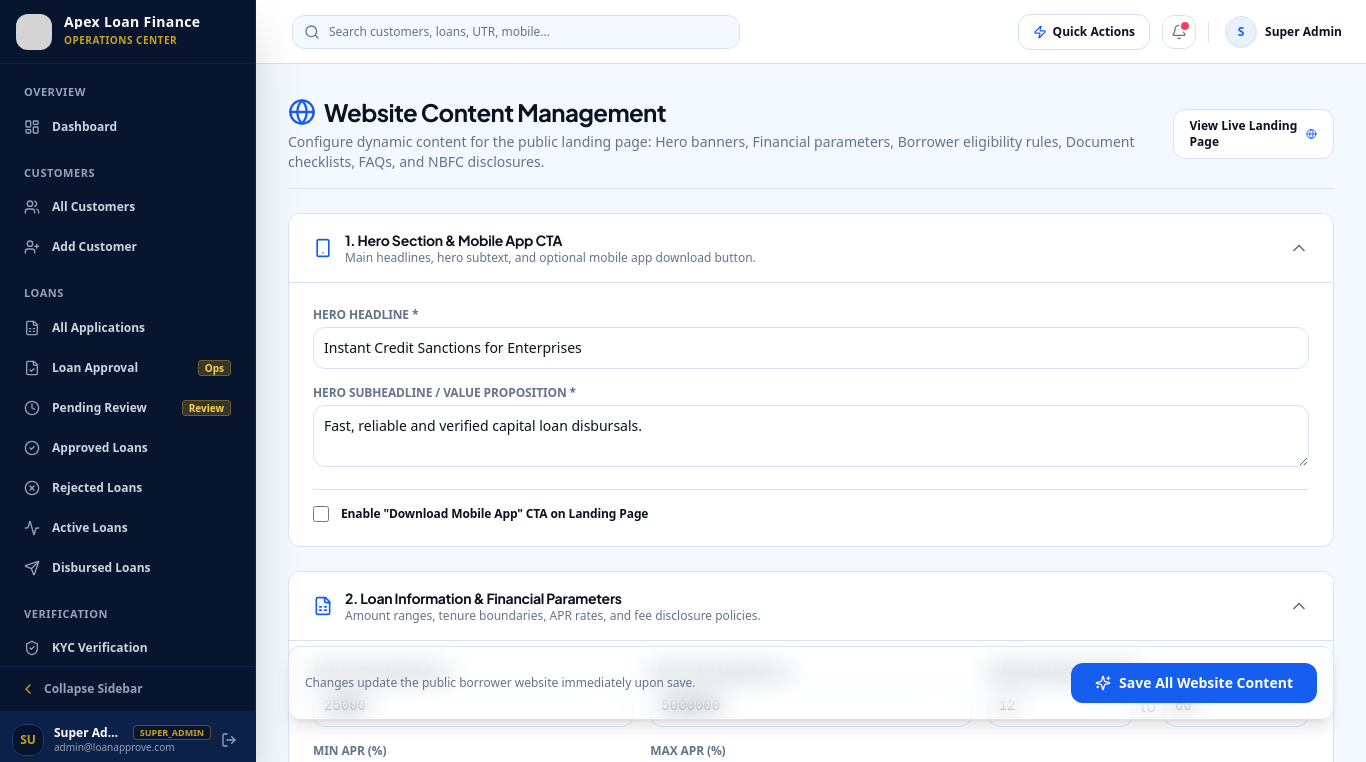
Test: Website Settings, Approval Letter & Branding E2E Integration Suite › TEST 3: Dedicated Website Content Page manages Hero, Financial limits, and FAQs with live save
Expected: the heading "Website Content Management" is shown, [288, 97, 666, 127]
Expected: the number field showing "25000" below "Min Loan Amount (₹)" is shown, [313, 685, 634, 727]
# Edit hero headline
Replace the text in the field showing "Instant Credit Sanctions for Enterprises" with "Updated Fintech Sanction Portal" at x=811, y=348, box [313, 327, 1309, 369]
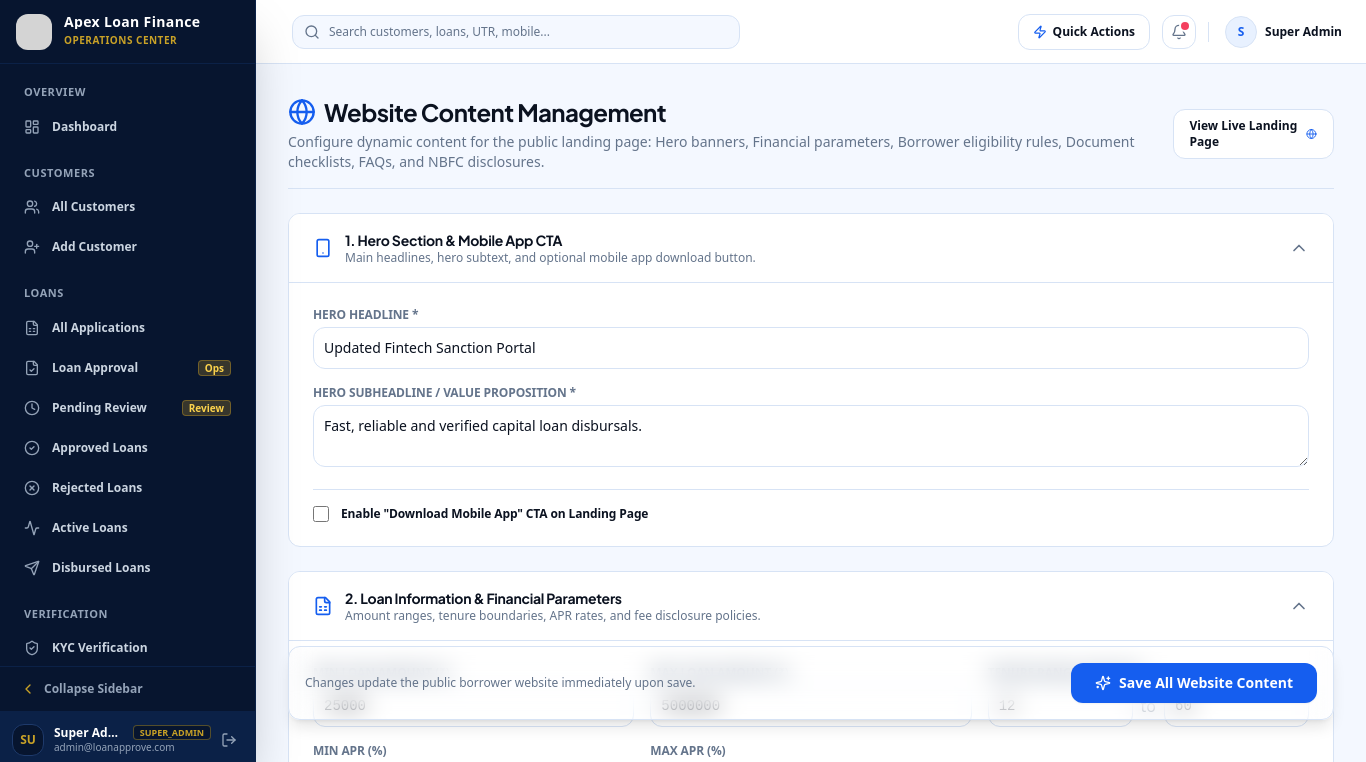
# Click master save
Click the button "Save All Website Content" at x=1194, y=683, box [1071, 663, 1317, 703]
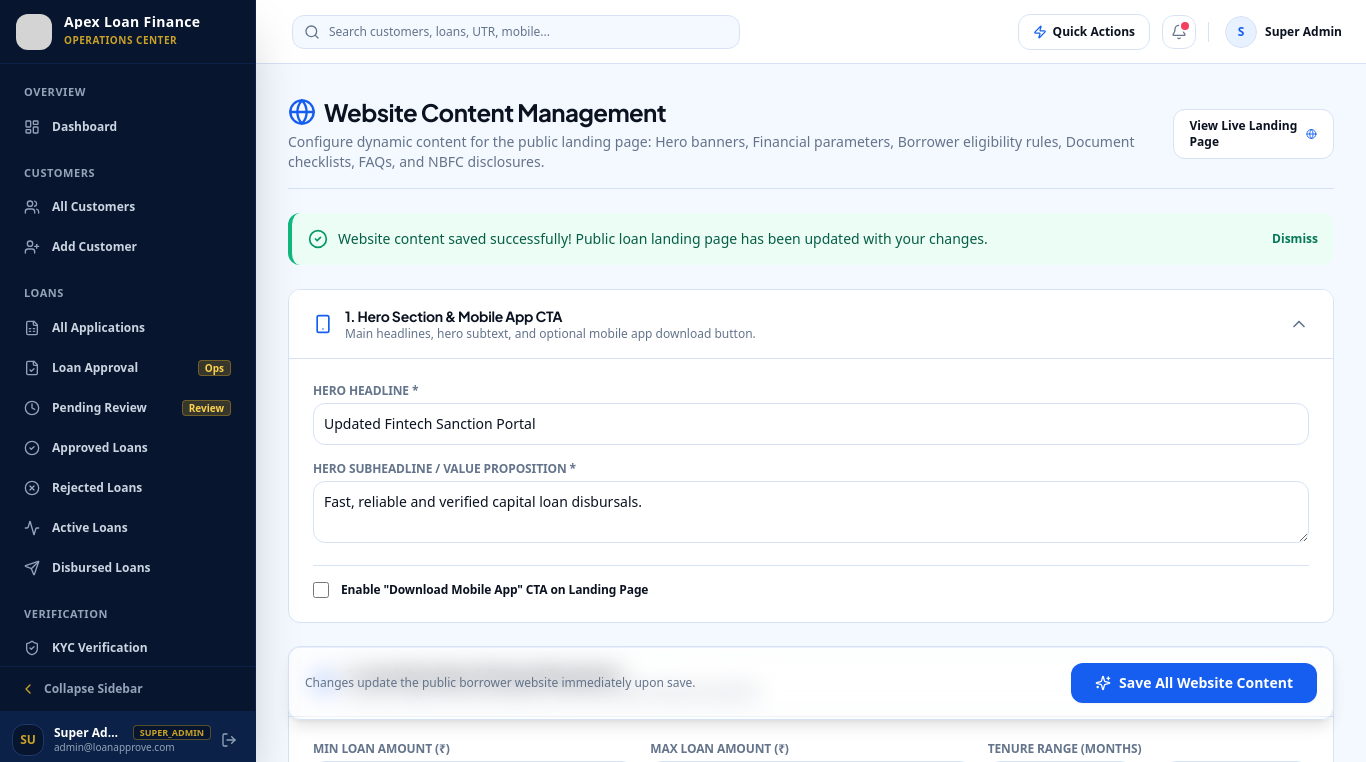
Expected: the text "Website content saved successfully" is shown, [338, 229, 988, 248]
